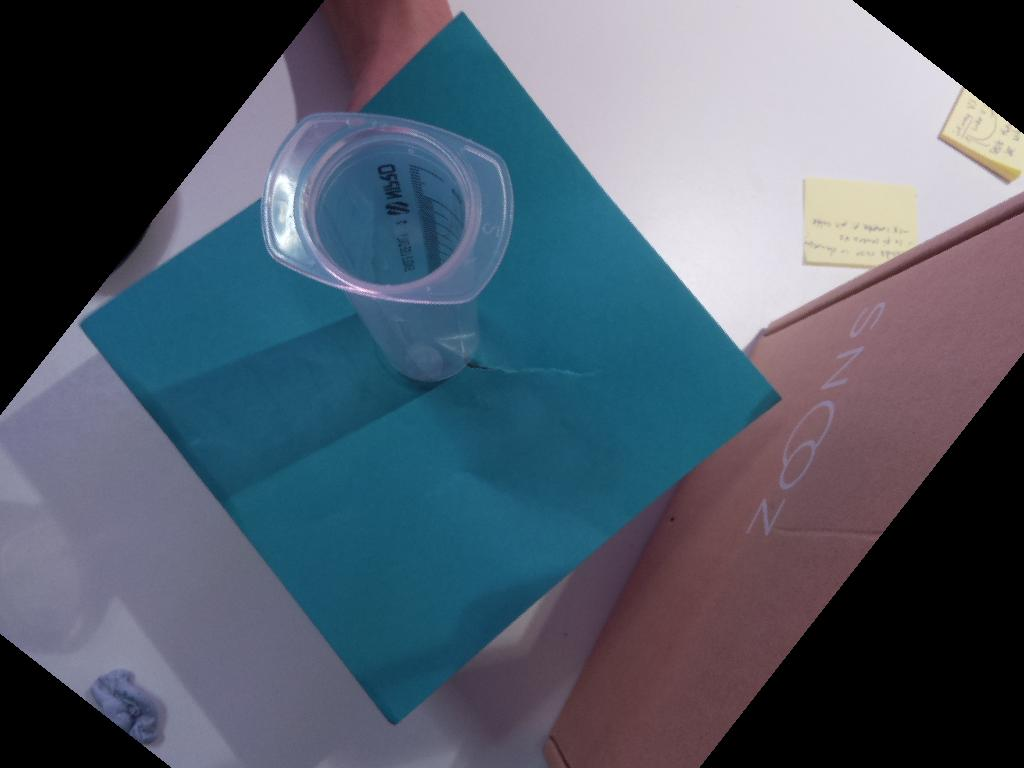clean: (258, 114, 516, 307)
